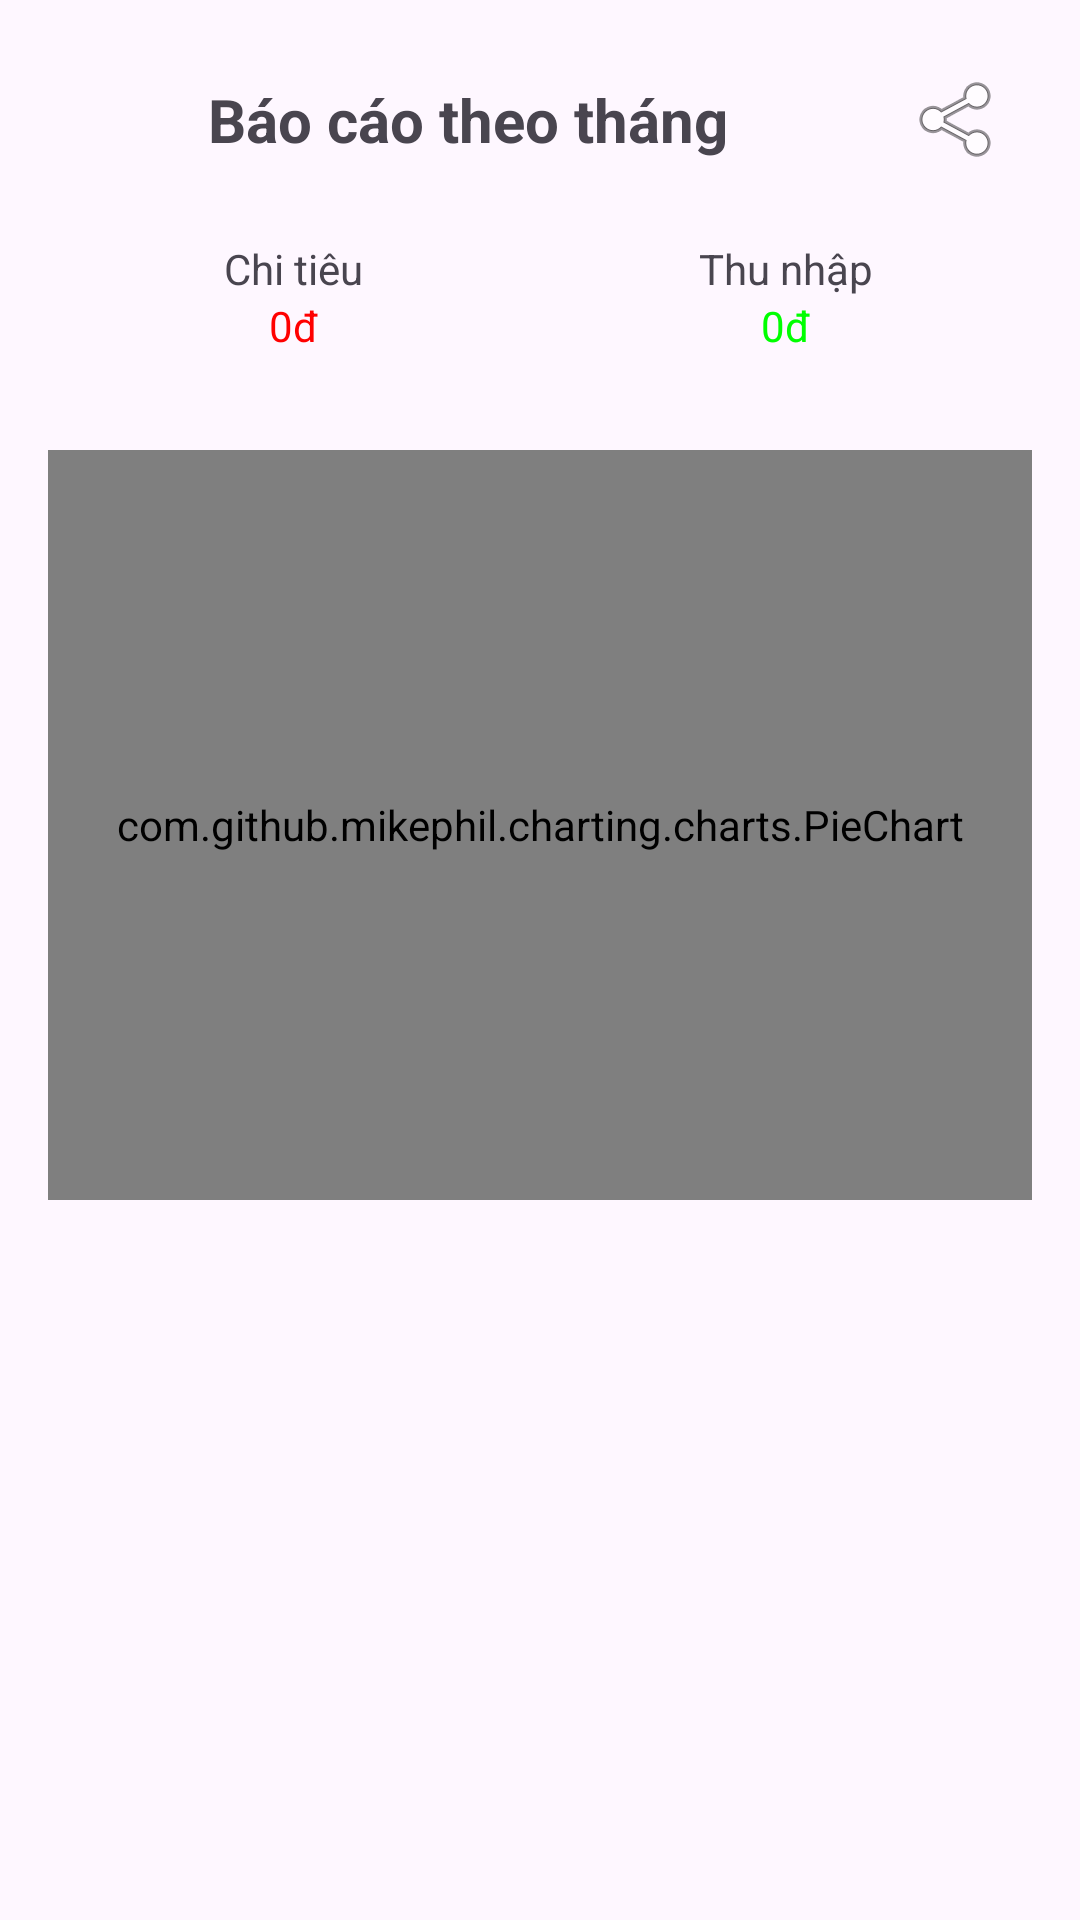

Icons on this 1080px×1920px Android screen, each with the point to tap as [x,y]:
Export Report: [955,119]
